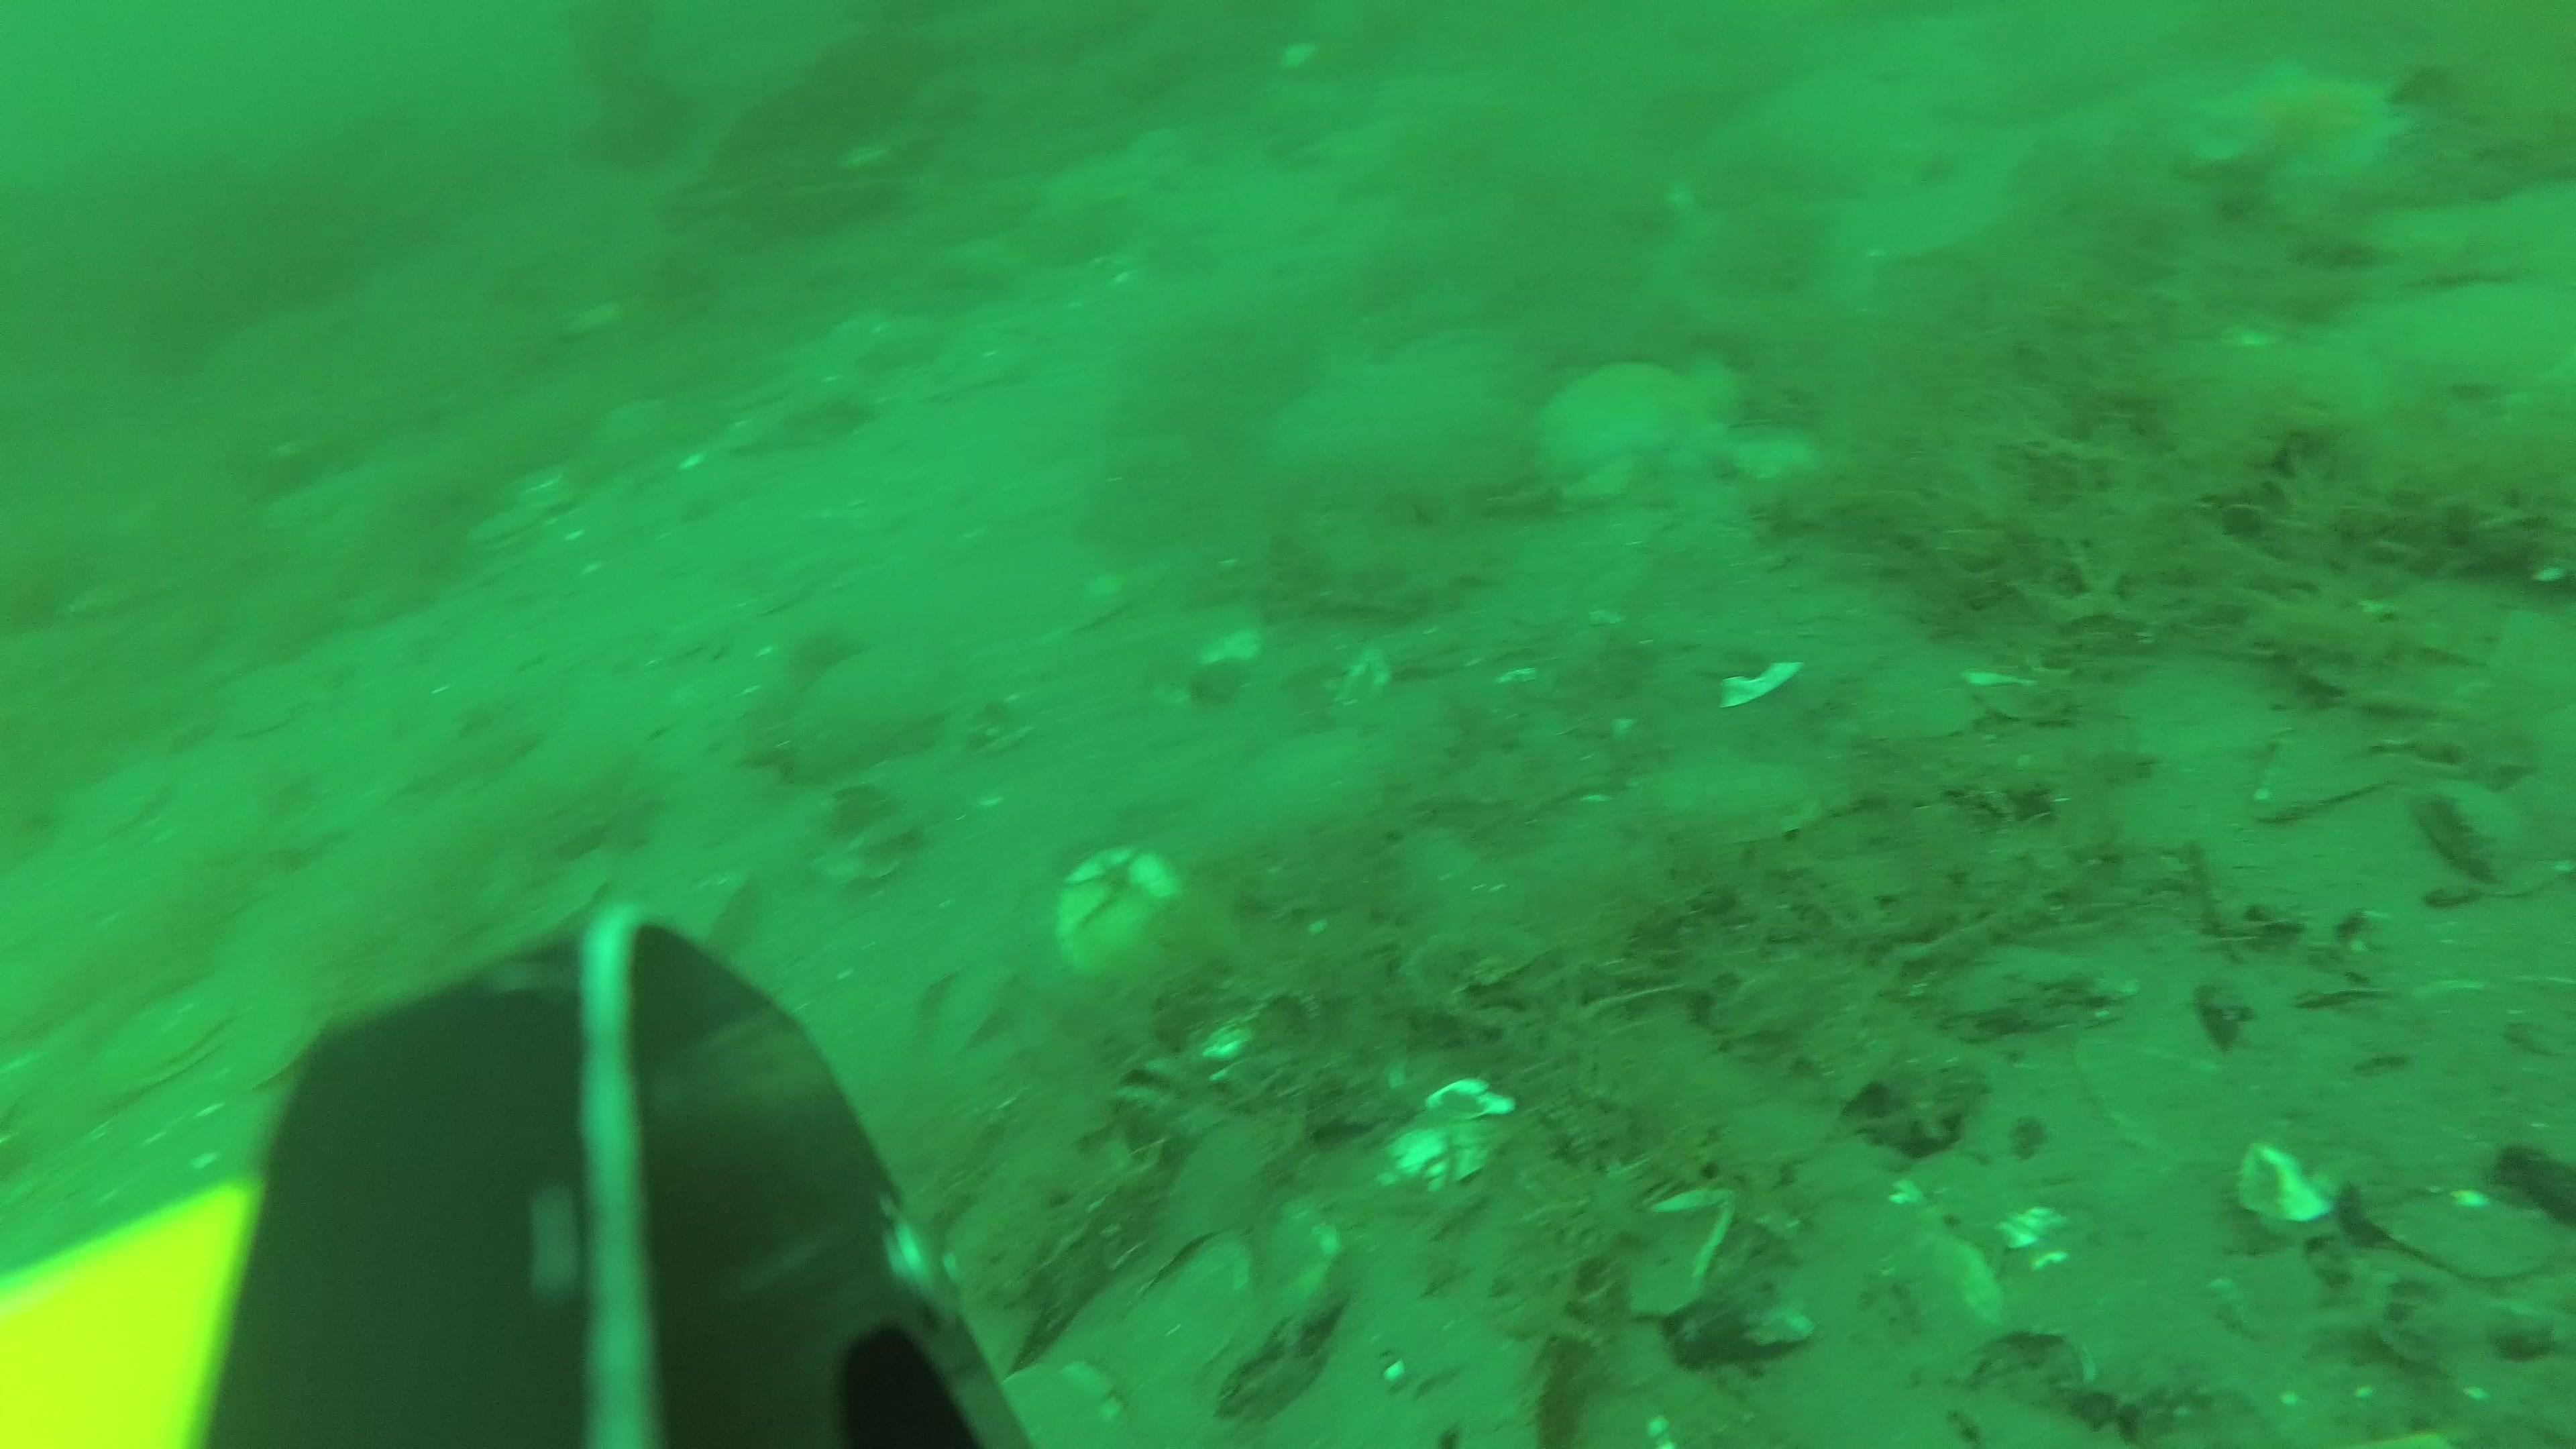scallop: (1053, 846, 1191, 984), (96, 980, 241, 1097), (474, 504, 547, 556)
starfish: (1522, 356, 1746, 494), (2183, 60, 2396, 189)
